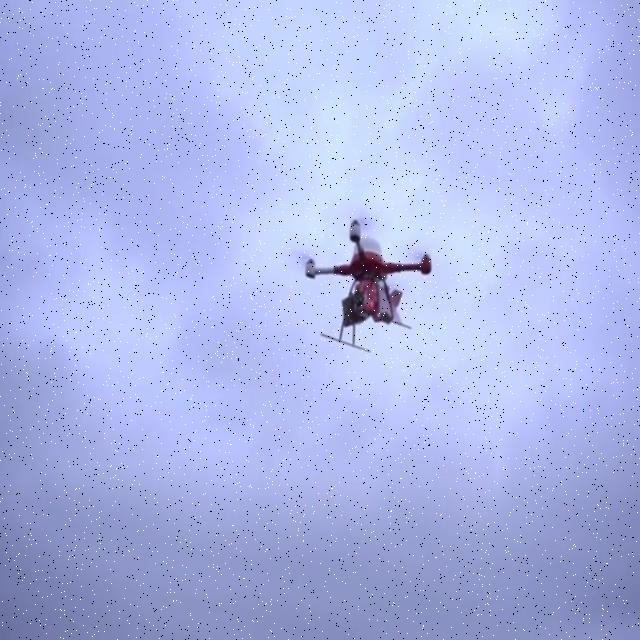UAV: (306, 217, 432, 353)
